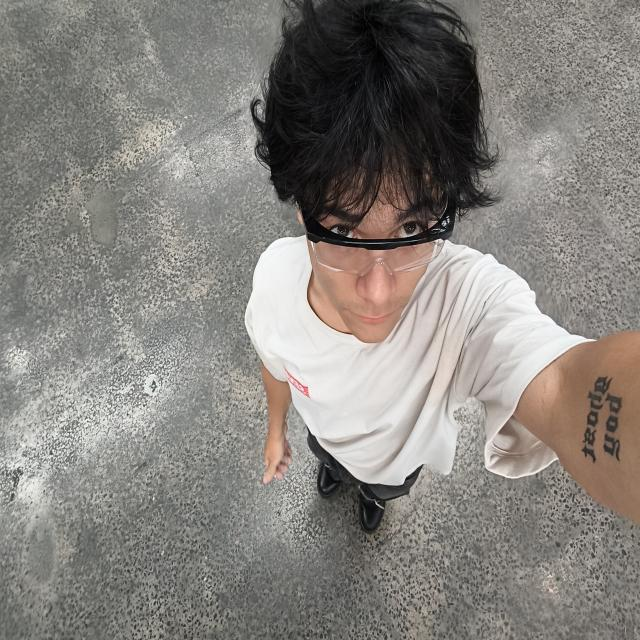oculos-epi: (297, 196, 458, 275)
